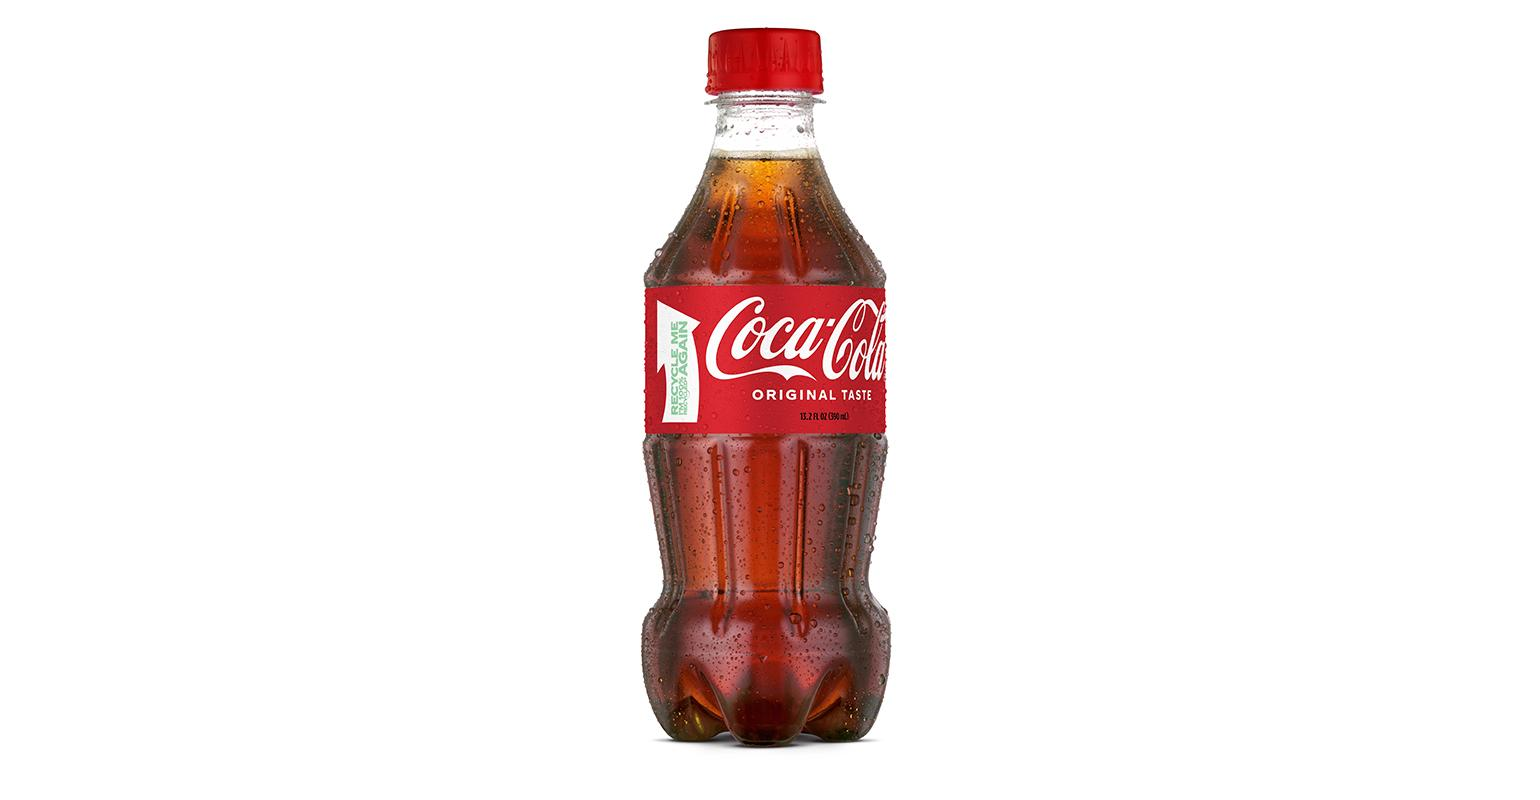plastic_bottle: (496, 2, 1078, 797)
